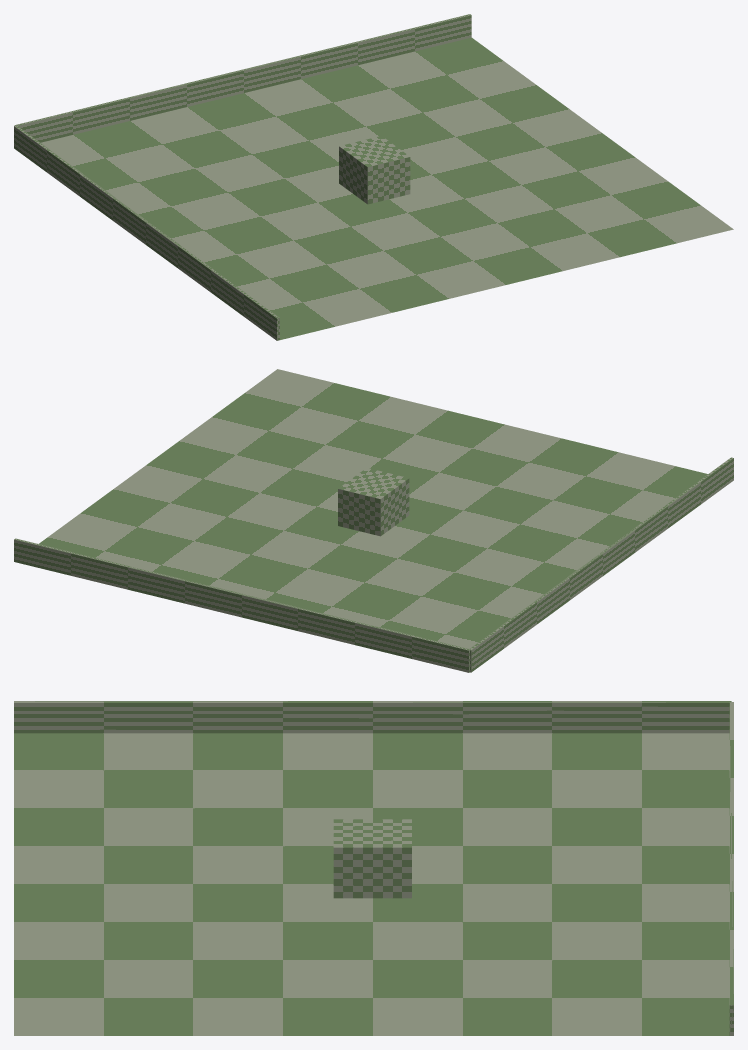
The model's file is tile_1.glb.
3 renders of one model, top to bottom at view 1: azimuth 30°, elevation 25°; view 2: azimuth 150°, elevation 25°; view 3: azimuth 270°, elevation 25°, orthographic. The views are drawn at different scales.
Size of the model in its own units: 64.2 by 5 by 64.2.
Materials: 1 (1 with a texture image).
